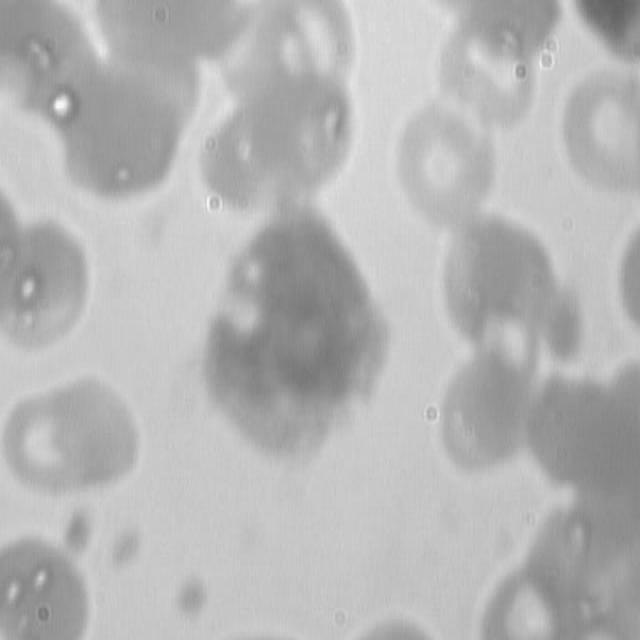Platelets: (167, 574, 212, 626), (106, 526, 151, 578), (547, 314, 592, 366)
RBC: (183, 70, 308, 222), (260, 58, 385, 210), (428, 218, 561, 358), (402, 356, 535, 496), (44, 362, 177, 502), (0, 216, 111, 368), (65, 72, 176, 224), (391, 87, 500, 229), (435, 15, 544, 157), (517, 364, 628, 499), (253, 0, 376, 117), (0, 388, 114, 513), (551, 67, 639, 209), (1, 526, 102, 638)
WBC: (183, 197, 398, 484)
